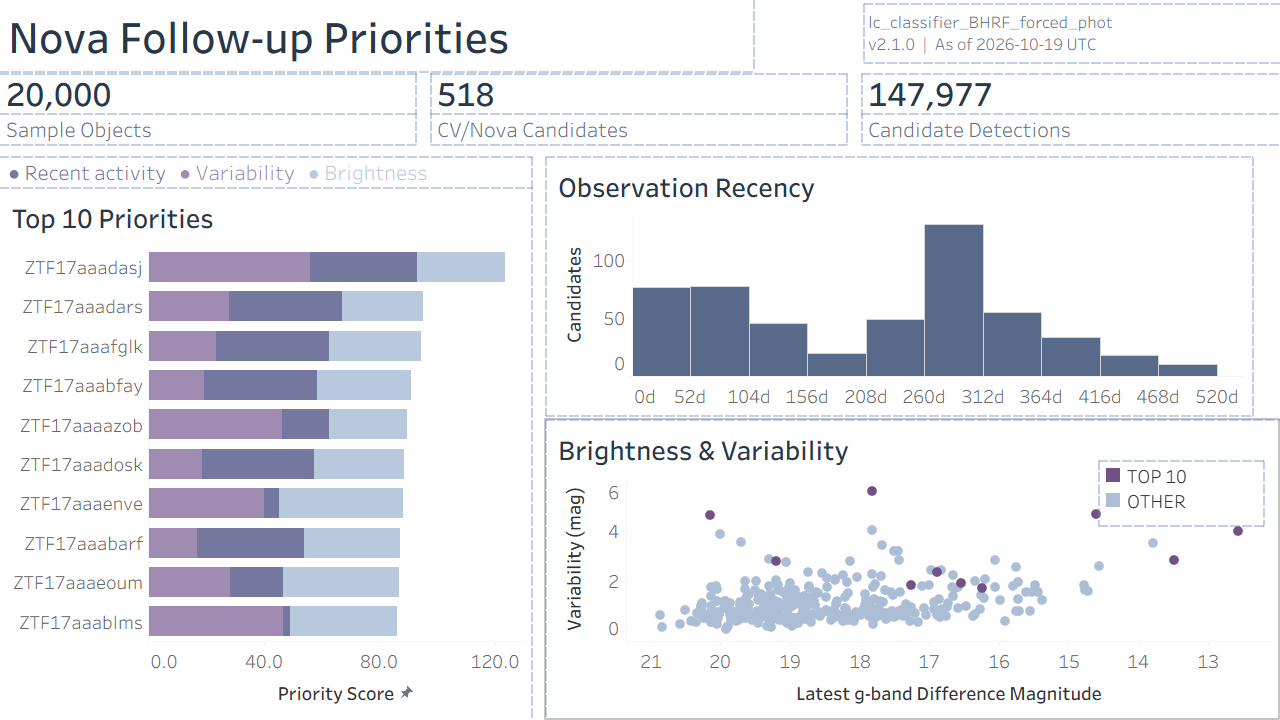

The dashboard page shown, as its layout file describes it:
{"tool":"tableau","page":{"name":"CV Nova Priorities","canvas":[1280,720],"ordinal":0},"visuals":[{"type":"text","box":[0,0,753.8,72.4]},{"type":"text","box":[864,4.1,416,59]},{"type":"text","box":[0,74.5,416.4,39.3]},{"type":"text","box":[430.8,74.5,416.4,39.3]},{"type":"text","box":[861.5,74.5,418.5,39.3]},{"type":"text","box":[0,113.8,416.4,31]},{"type":"text","box":[430.8,113.8,416.4,31]},{"type":"text","box":[861.5,113.8,418.5,31]},{"type":"text","box":[0,157.2,532,31]},{"type":"worksheet","title":"Observation Recency","mark":"Automatic","rows":["oid"],"cols":["Days Since Last Observation (数据桶)"],"box":[545.6,157.2,707.7,258.6]},{"type":"worksheet","title":"Top 10 Priorities","mark":"Bar","rows":["oid"],"cols":["score"],"box":[0,188.3,532,531.7]},{"type":"worksheet","title":"Brightness & Variability","mark":"Automatic","rows":["amplitude_diff"],"cols":["magpsf"],"box":[546,420,734,300]},{"type":"legend","title":"Brightness & Variability","param":"[federated.1x69rz41awuhue1a2052q0e627m6].[none:is_10:nk]","box":[1099.5,461.4,164.1,64.1]}]}

Visuals, with their boxes in screenshot pixels (x1, y1, x2, y2), scaled from the page's 1280x720 canvas onto the 1280x720 screenshot:
text: <region>0, 0, 754, 72</region>
text: <region>864, 4, 1279, 63</region>
text: <region>0, 74, 416, 114</region>
text: <region>431, 74, 847, 114</region>
text: <region>862, 74, 1279, 114</region>
text: <region>0, 114, 416, 145</region>
text: <region>431, 114, 847, 145</region>
text: <region>862, 114, 1279, 145</region>
text: <region>0, 157, 532, 188</region>
"Observation Recency" worksheet: <region>546, 157, 1253, 416</region>
"Top 10 Priorities" worksheet (Bar marks): <region>0, 188, 532, 719</region>
"Brightness & Variability" worksheet: <region>546, 420, 1279, 719</region>
"Brightness & Variability" legend: <region>1100, 461, 1264, 526</region>
